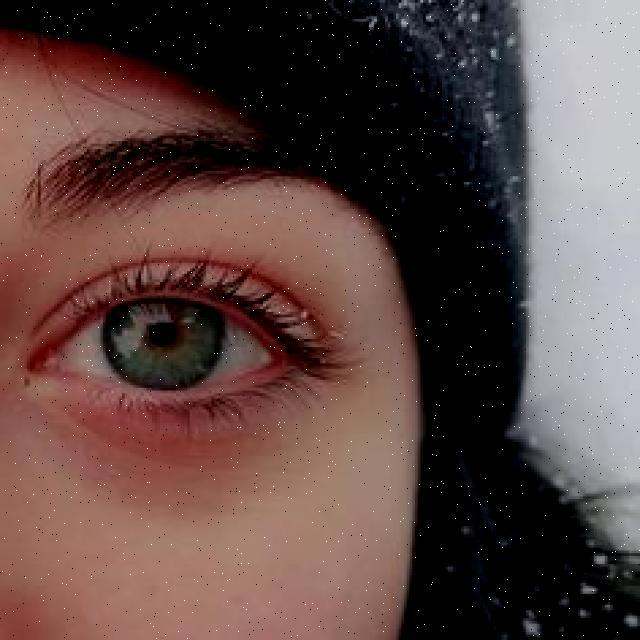Normal: (0, 202, 403, 488)
